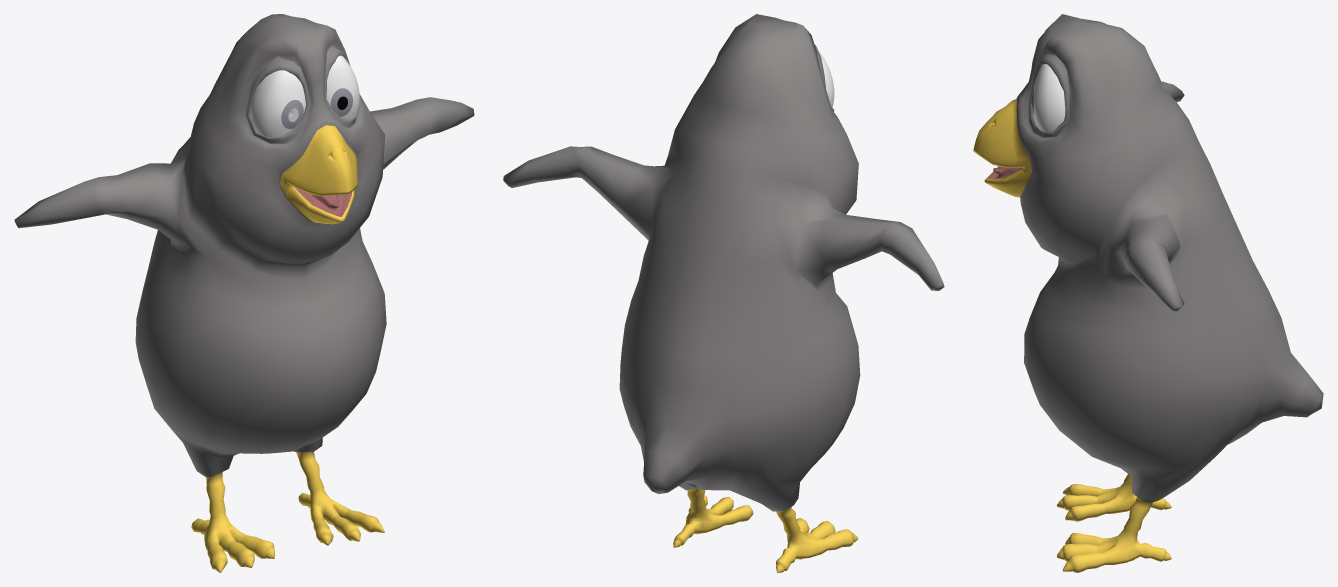
The model's file is bird.fbx.
The picture shows the model from 3 angles, left to right: view 1: azimuth 30°, elevation 25°; view 2: azimuth 150°, elevation 25°; view 3: azimuth 270°, elevation 25°; orthographic projection. The views are drawn at different scales.
Parts seen in each view (by area): view 1: Bird, Eye.R, Eye.L; view 2: Bird; view 3: Bird, Eye.L.
Part boxes in pixels (x1,y1,x2,y2): Bird: [14, 14, 474, 572]; Eye.R: [250, 70, 305, 137]; Eye.L: [326, 55, 359, 118]; Bird: [503, 14, 944, 572]; Bird: [973, 14, 1323, 572]; Eye.L: [1031, 64, 1065, 132].
Bounding box in the file's own units: 0.5348 × 0.5837 × 0.3636.
